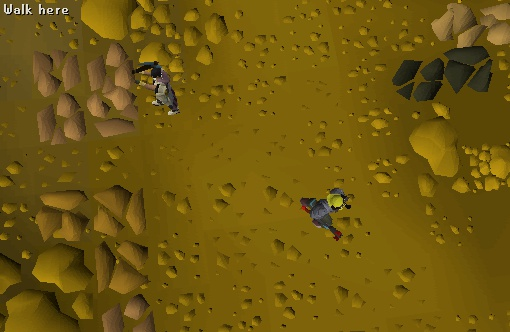coal: (387, 49, 448, 113), (439, 39, 500, 103)
granite: (32, 85, 89, 156)
sandstone: (83, 177, 159, 242), (83, 230, 159, 295), (20, 180, 96, 245)
